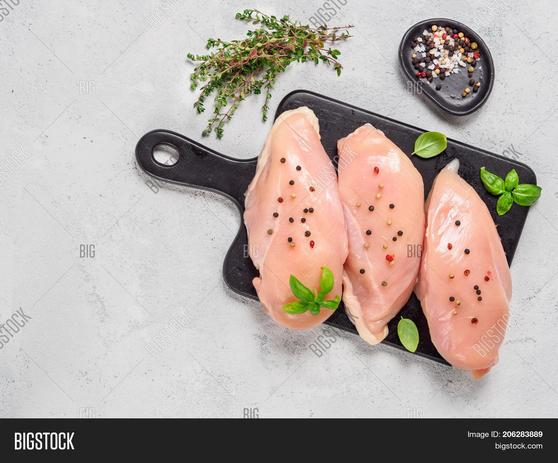chicken_fillet: (418, 161, 514, 380), (254, 108, 346, 331), (332, 120, 424, 343)
